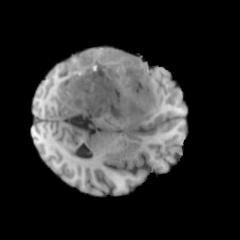glioma: (43, 48, 160, 124)
